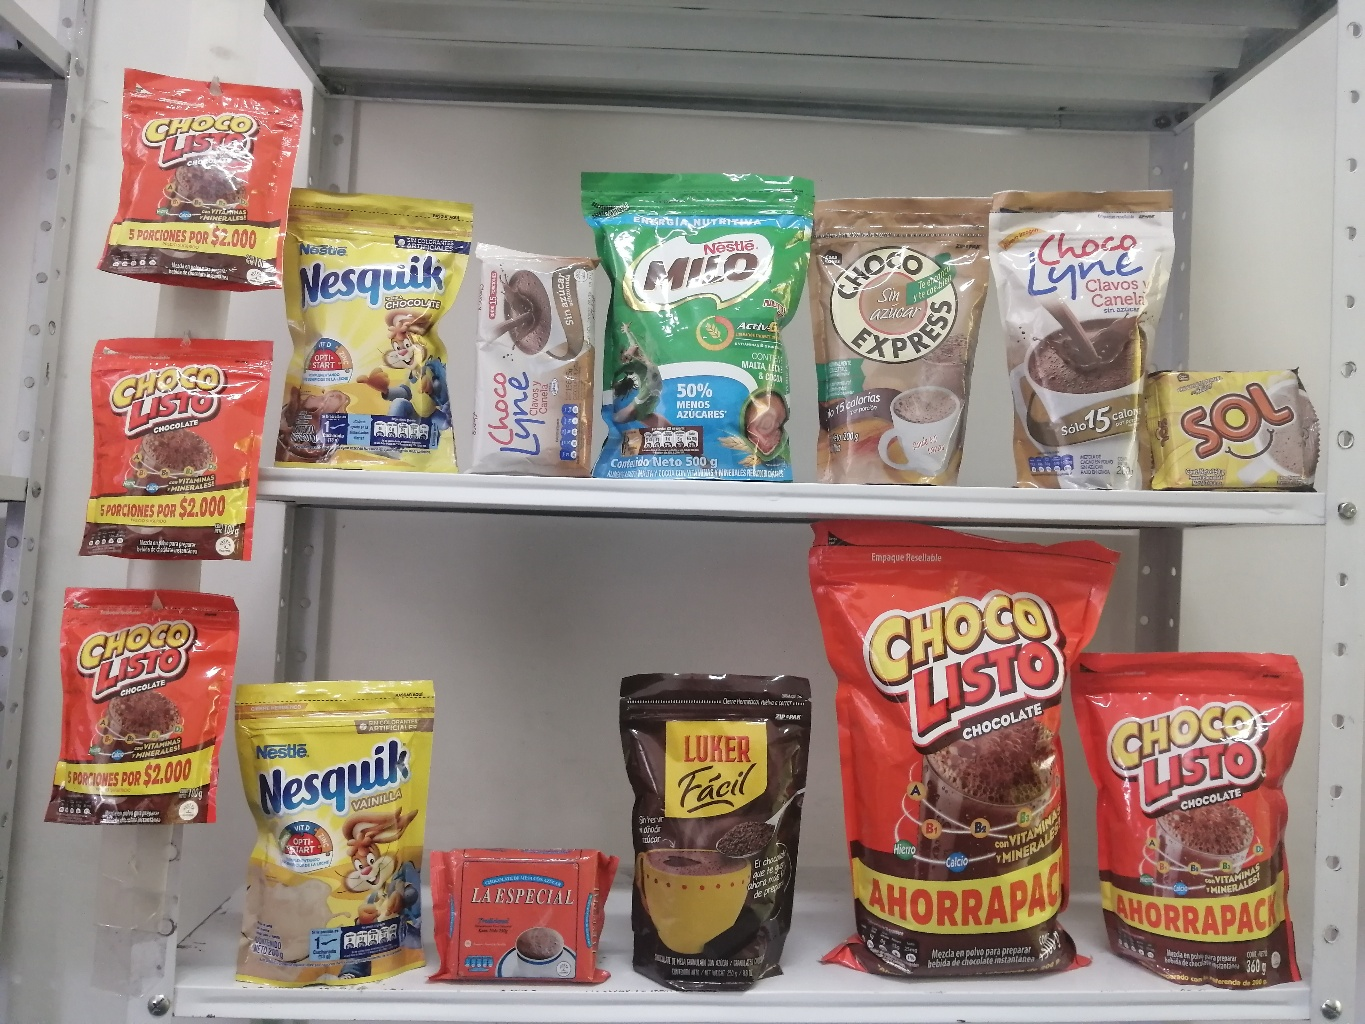COL0170103DYP1,500: (774, 507, 1123, 1009)
COL0170103DYP36000: (1064, 634, 1328, 997)
COL0170205DYP50000: (572, 154, 821, 487)
COL0170303DYP20000: (262, 183, 483, 490)
COL0170306DYP20000: (209, 654, 456, 999)
